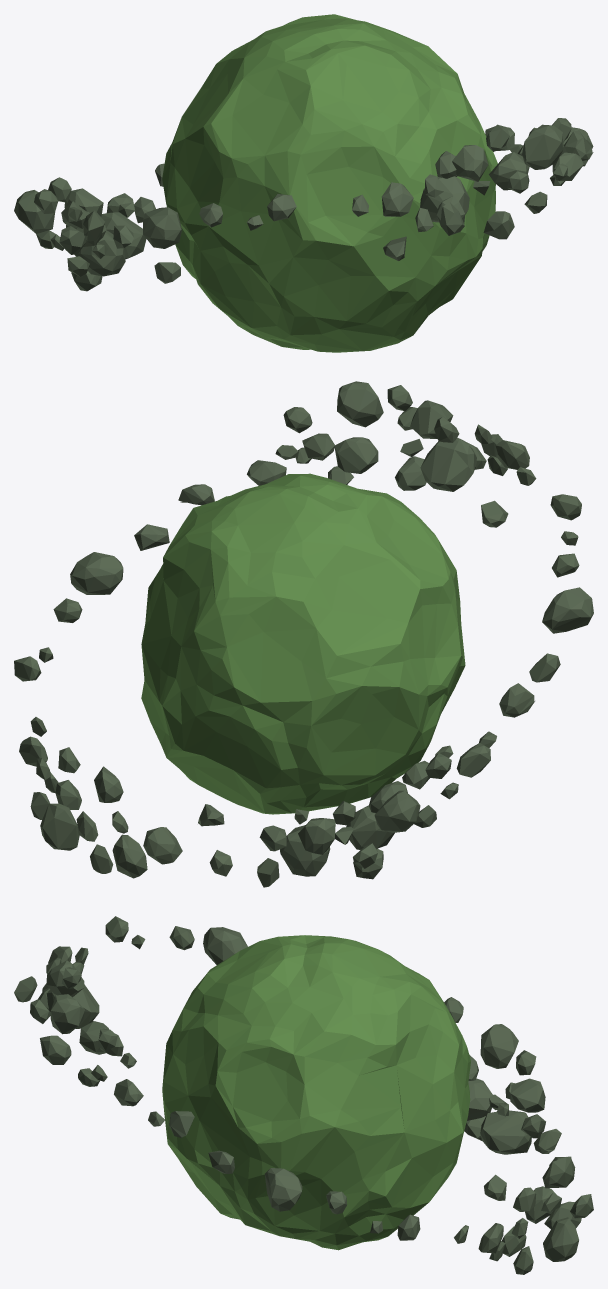
Rendered from SM_PlanetE.fbx.
3 views of the same model, one above another, from view 1: azimuth 30°, elevation 25°; view 2: azimuth 150°, elevation 25°; view 3: azimuth 270°, elevation 25° (orthographic). The views are drawn at different scales.
Visible parts, largest first — view 1: PlanetE; view 2: PlanetE; view 3: PlanetE.
Boxes of the visible parts, <box> form: PlanetE: <box>14,14,593,352</box>; PlanetE: <box>14,381,593,887</box>; PlanetE: <box>14,916,593,1274</box>.
Size of the model in its own units: 3.47 by 2.11 by 3.91.
Materials: 1 (1 with a texture image).
